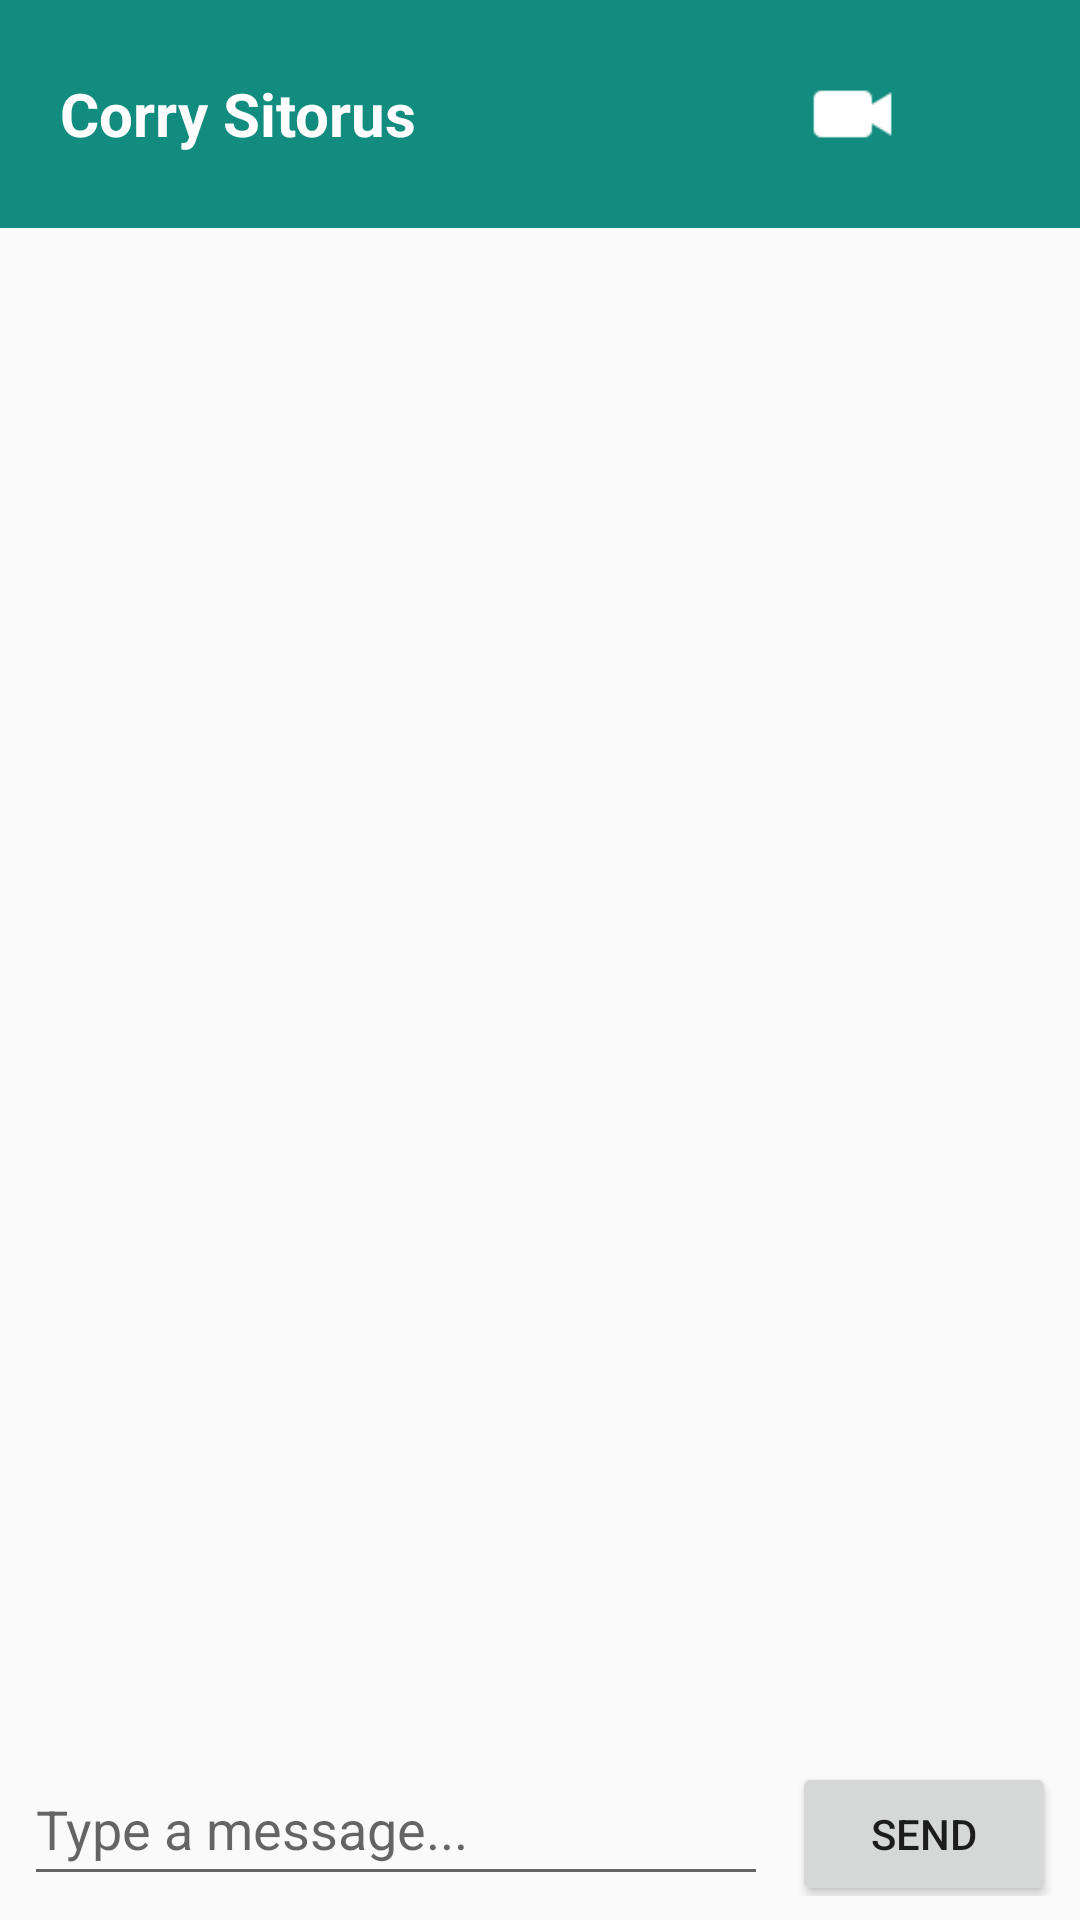

Icon bounding boxes for this 1080*1920 phone screenshot, format (x1=x1, y1=y1, x2=x2, y2=y2):
video: (x1=813, y1=90, x2=892, y2=138)
